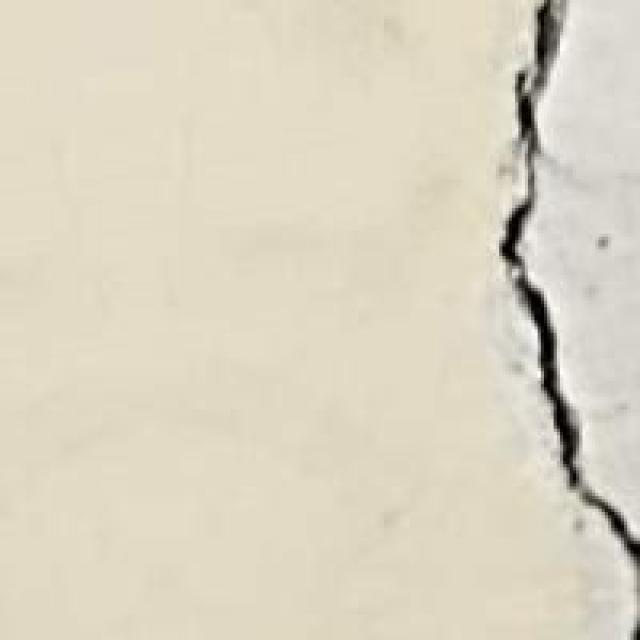crack: (442, 0, 636, 602)
